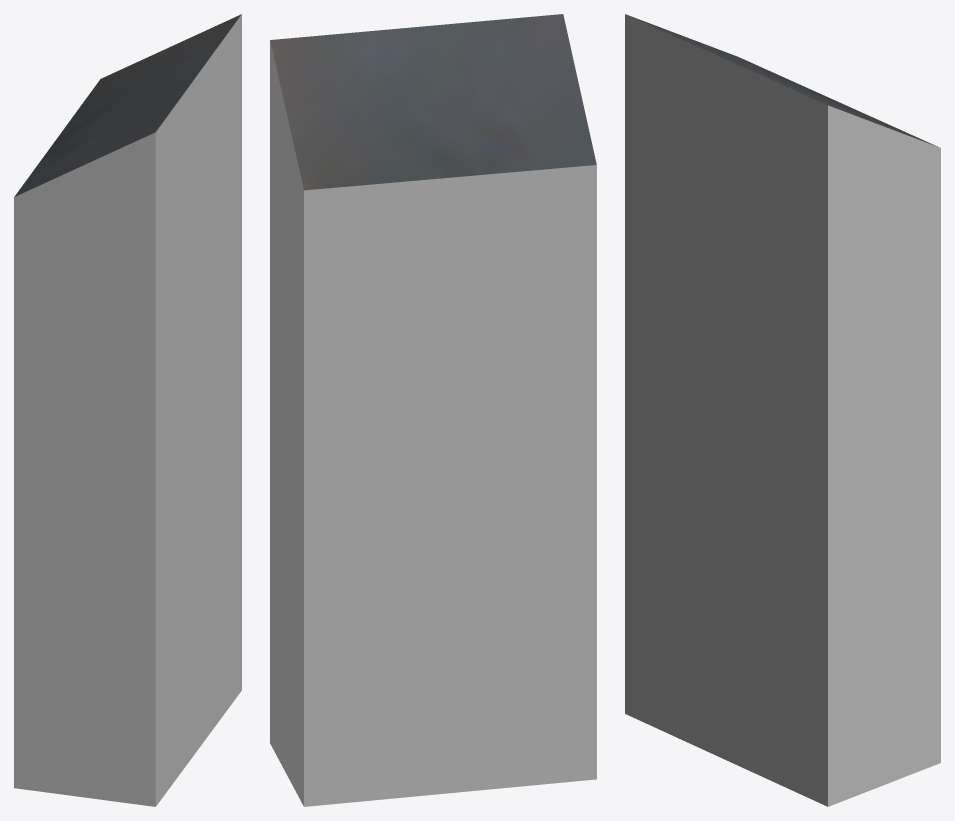
The model's file is DEBW_0010007THXR.gltf.
3 renders of one model, left to right at view 1: azimuth 30°, elevation 25°; view 2: azimuth 150°, elevation 25°; view 3: azimuth 270°, elevation 25°, orthographic. The views are drawn at different scales.
Parts seen in each view (by area): view 1: Z_UP; view 2: Z_UP; view 3: Z_UP.
Boxes of the visible parts, x1,y1,x2,y2 form: Z_UP: (14,14,241,806); Z_UP: (270,14,596,806); Z_UP: (625,14,940,806).
Bounding box in the file's own units: 4.86 × 11.59 × 4.73.
2 materials, 1 textured.
